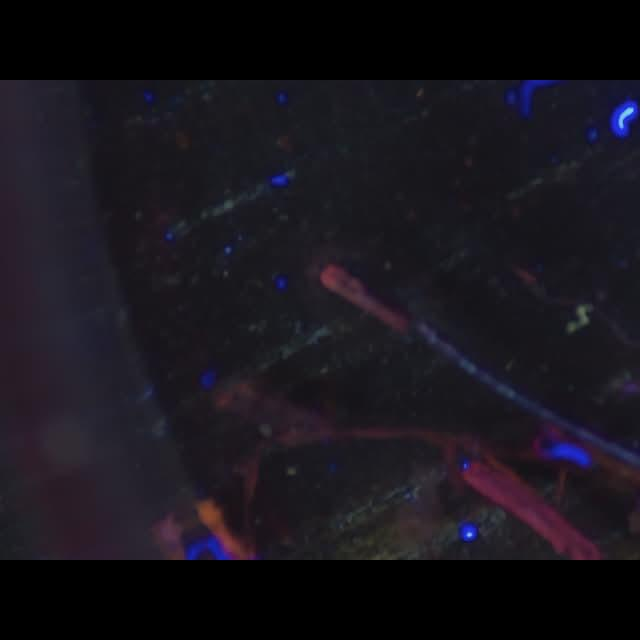Fibre: (569, 304, 595, 334)
